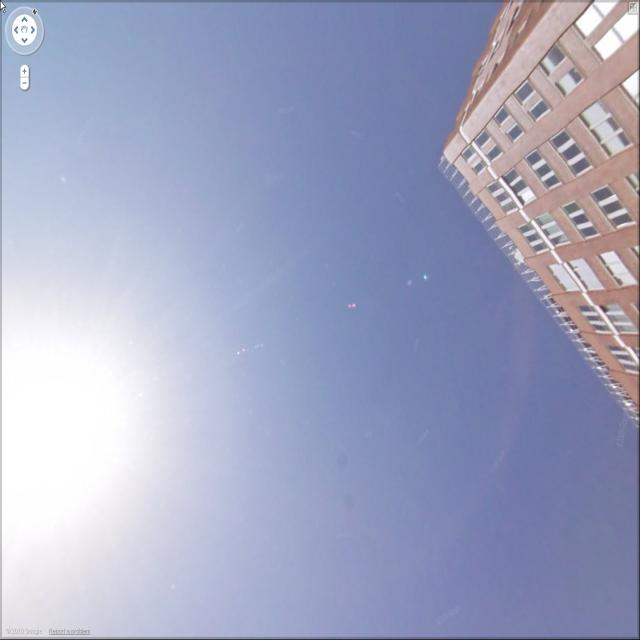b_1: (435, 11, 633, 437)
